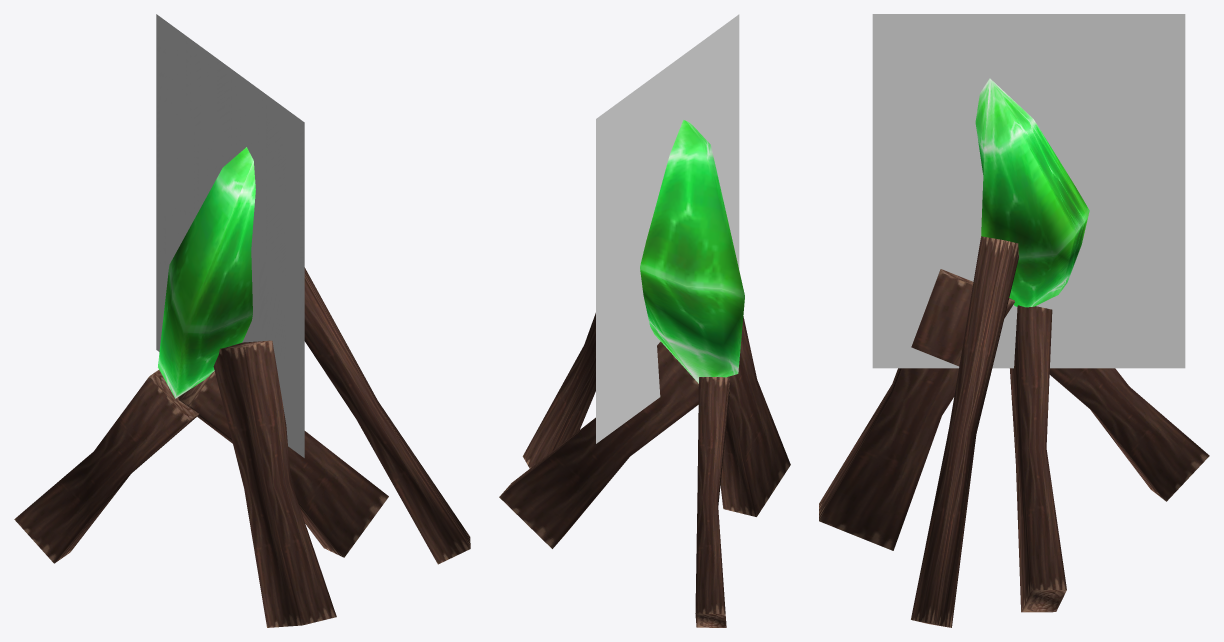
File: o_crystal_01.obj
The picture shows the model from 3 angles, left to right: view 1: azimuth 30°, elevation 25°; view 2: azimuth 150°, elevation 25°; view 3: azimuth 270°, elevation 25°; orthographic projection. The views are drawn at different scales.
Visible parts, largest first — view 1: Geoset1, Geoset2, Geoset0; view 2: Geoset1, Geoset2, Geoset0; view 3: Geoset2, Geoset1, Geoset0.
Boxes of the visible parts, x1,y1,x2,y2 form: Geoset1: [14, 267, 470, 627]; Geoset2: [156, 14, 304, 457]; Geoset0: [158, 147, 255, 398]; Geoset1: [499, 313, 790, 627]; Geoset2: [596, 14, 739, 443]; Geoset0: [640, 120, 744, 383]; Geoset2: [872, 14, 1185, 368]; Geoset1: [819, 236, 1209, 627]; Geoset0: [975, 78, 1089, 307].
Bounding box in the file's own units: 0.4894 × 0.7241 × 0.4718.
2 materials, 2 textured.
